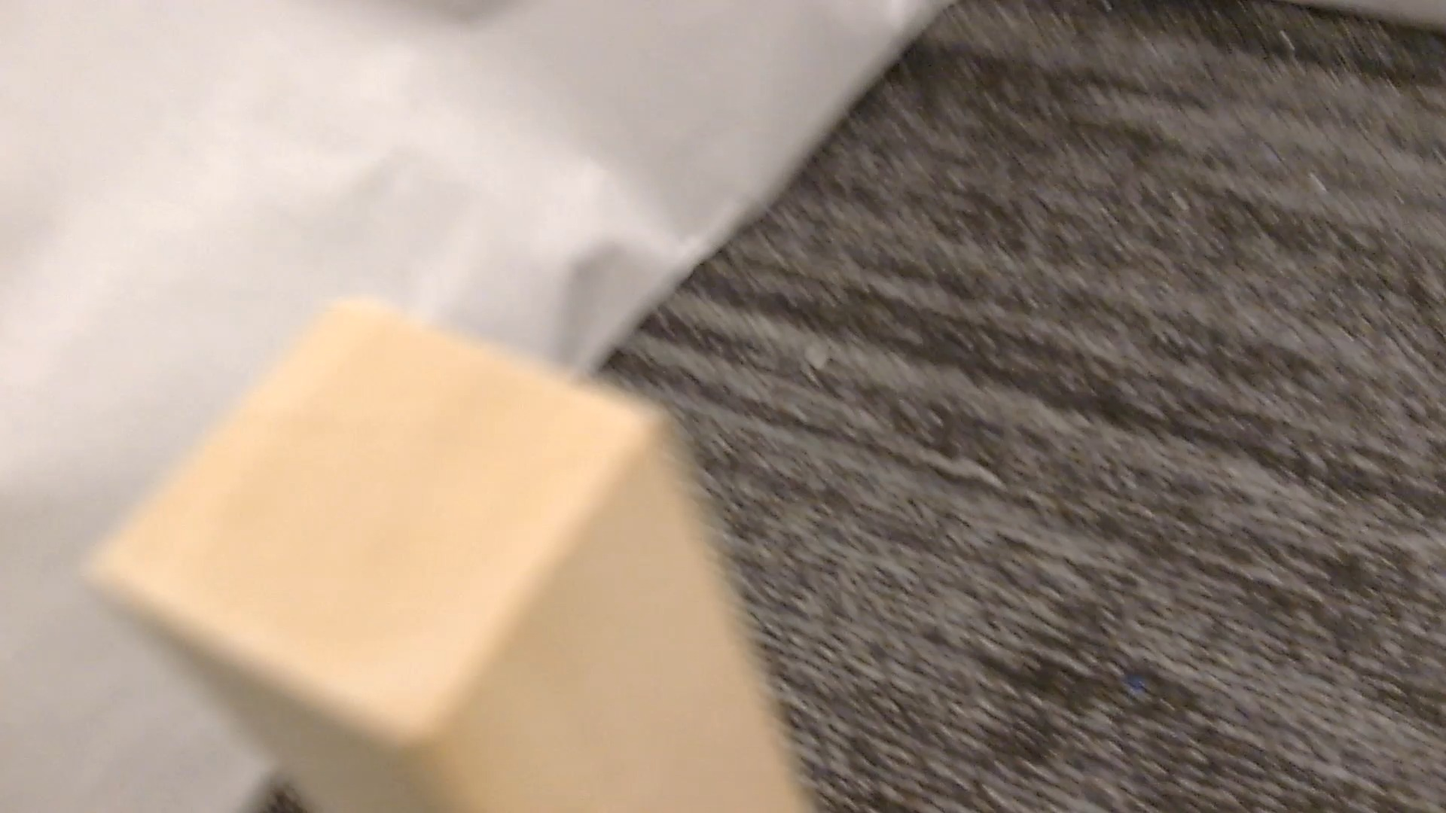Wooden Block: (90, 305, 807, 812)
